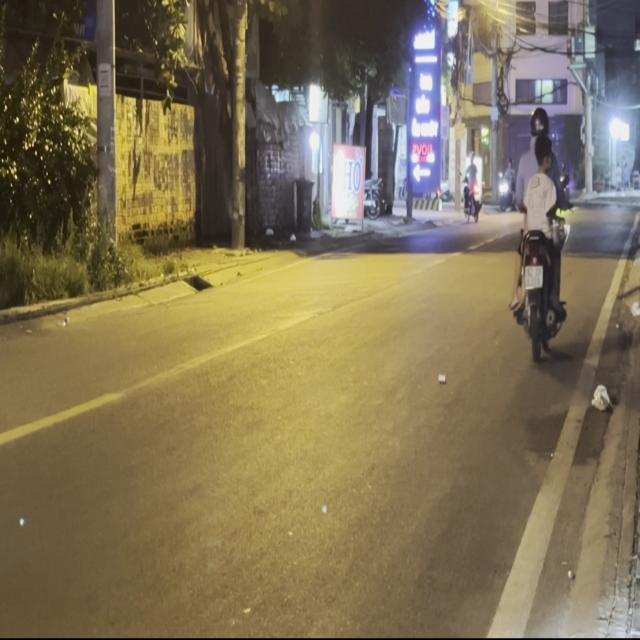helmet: (528, 104, 550, 139)
licenseplate: (507, 108, 568, 358)
motorcyclist: (531, 131, 552, 172)
nohelmet: (524, 265, 544, 288)
